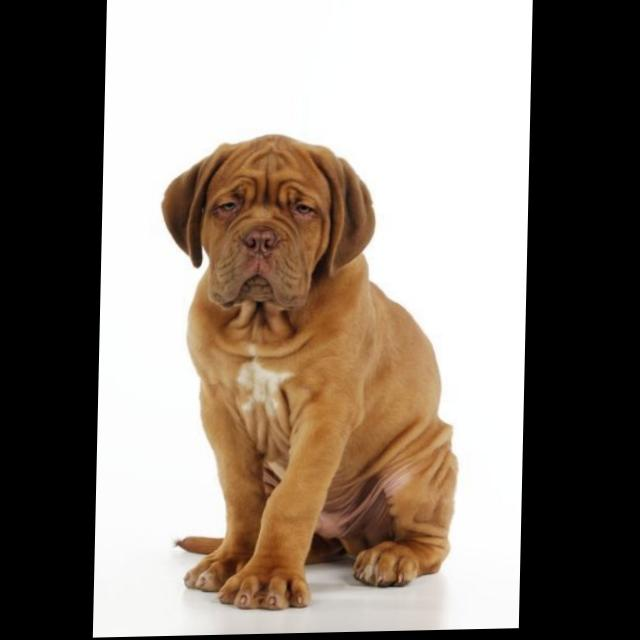dogue_de_bordeaux: (156, 132, 469, 615)
